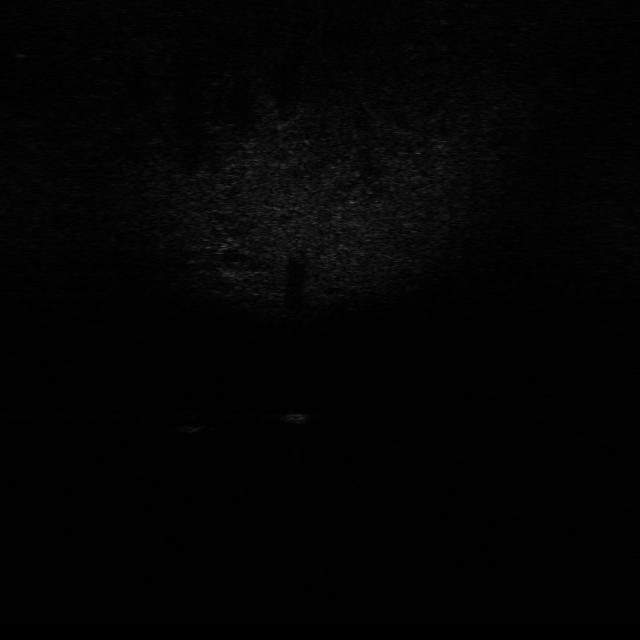ball: (171, 408, 207, 436)
cube: (276, 407, 320, 427)
